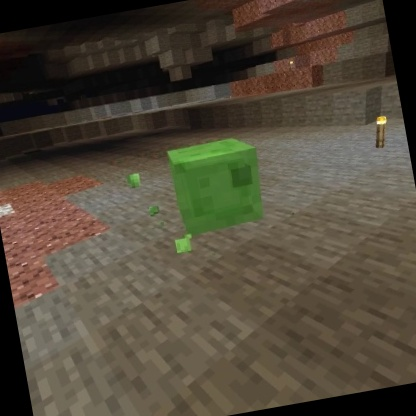slime: (162, 129, 273, 242)
